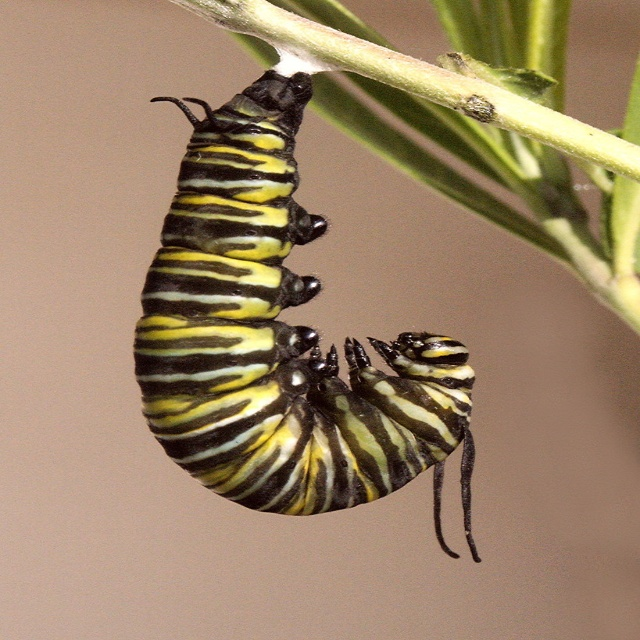Caterpillar: (139, 67, 481, 559)
